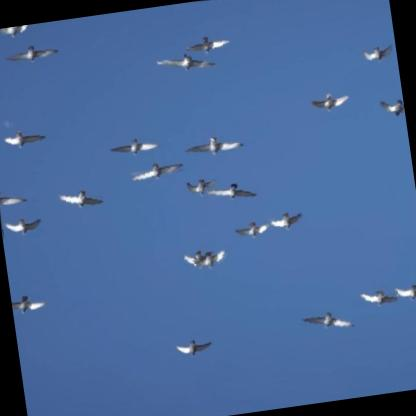bird: (152, 46, 222, 79), (295, 302, 358, 337), (202, 175, 264, 207), (126, 154, 187, 186), (184, 130, 248, 160), (1, 38, 61, 67), (54, 183, 108, 214), (106, 133, 164, 159), (0, 123, 50, 151), (184, 31, 233, 59), (352, 283, 399, 311), (267, 205, 308, 234), (0, 212, 44, 238), (307, 88, 350, 114), (231, 216, 273, 241), (192, 248, 231, 274), (183, 174, 221, 199), (11, 291, 49, 316), (374, 93, 405, 122), (359, 42, 396, 66), (171, 335, 213, 356), (184, 245, 214, 267), (0, 23, 32, 43), (394, 278, 416, 305)
